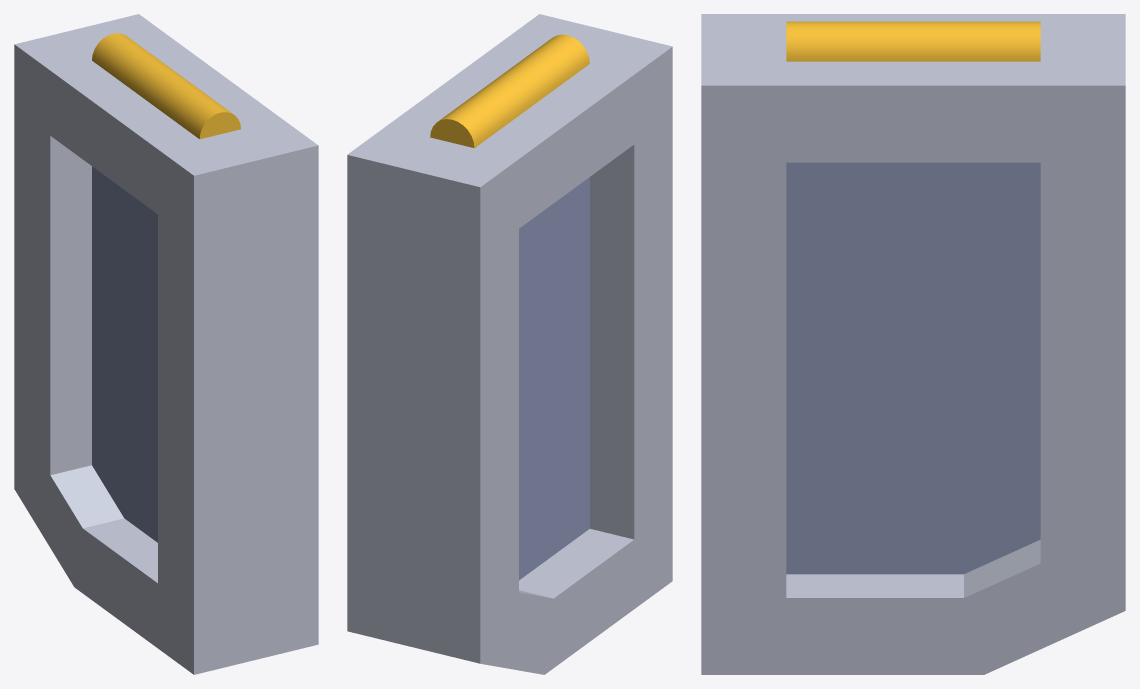
The model's file is clipA.obj.
3 renders of one model, left to right at view 1: azimuth 30°, elevation 25°; view 2: azimuth 150°, elevation 25°; view 3: azimuth 270°, elevation 25°, orthographic. The views are drawn at different scales.
Visible parts, largest first — view 1: clipA; view 2: clipA; view 3: clipA.
Part boxes in pixels (bbox=[...]): clipA: bbox=[14, 14, 318, 674]; clipA: bbox=[347, 14, 672, 674]; clipA: bbox=[701, 14, 1125, 674].
Bounding box in the file's own units: 0.06 × 0.24 × 0.15.
